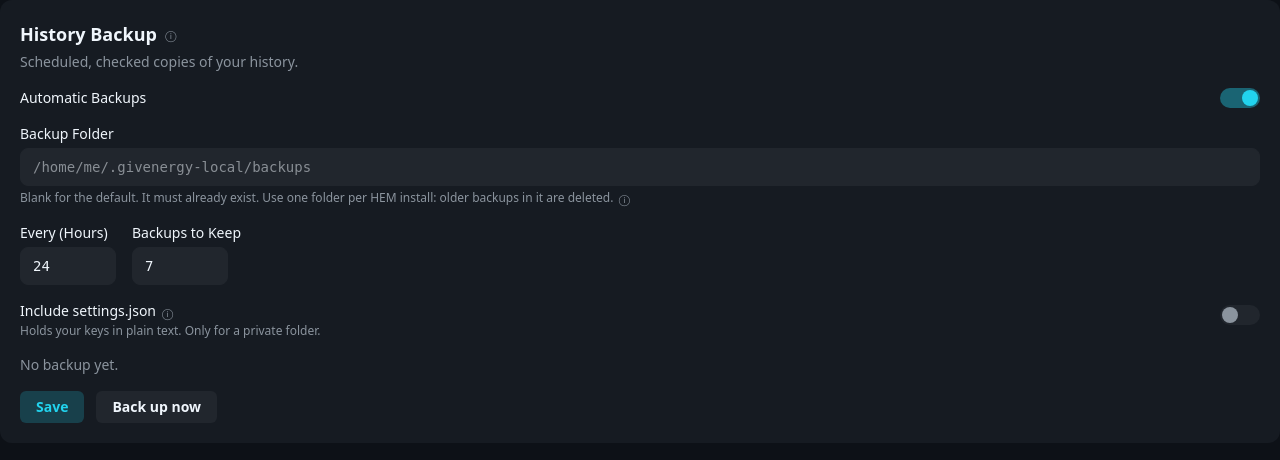
HistoryBackupPanel › puts a toggle back when its save fails
Step 1. Click the switch named "Automatic Backups" → x=1240, y=98, box [1220,88,1260,108]
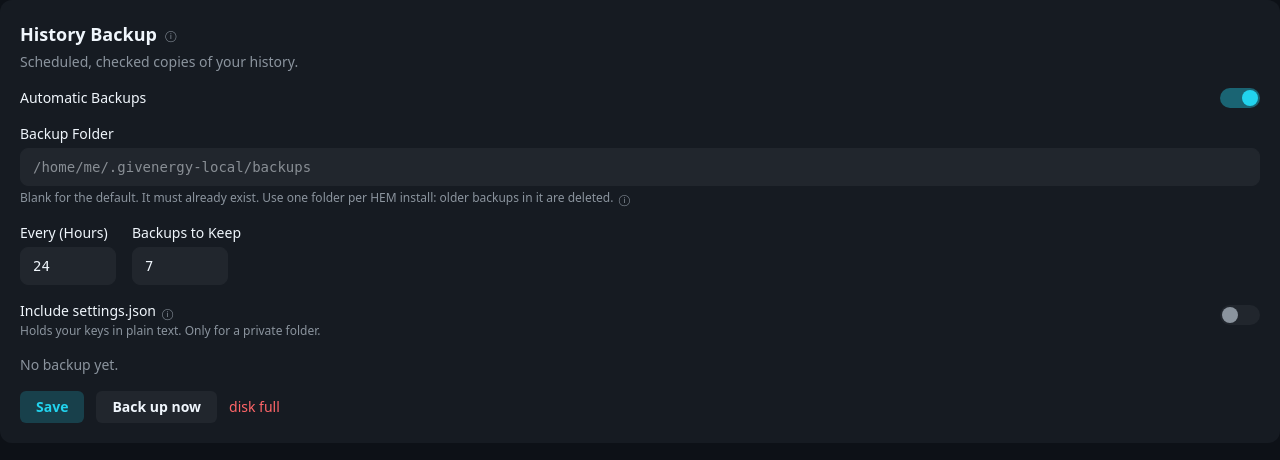
Now the message reads "disk full", box [229,397,280,416]
